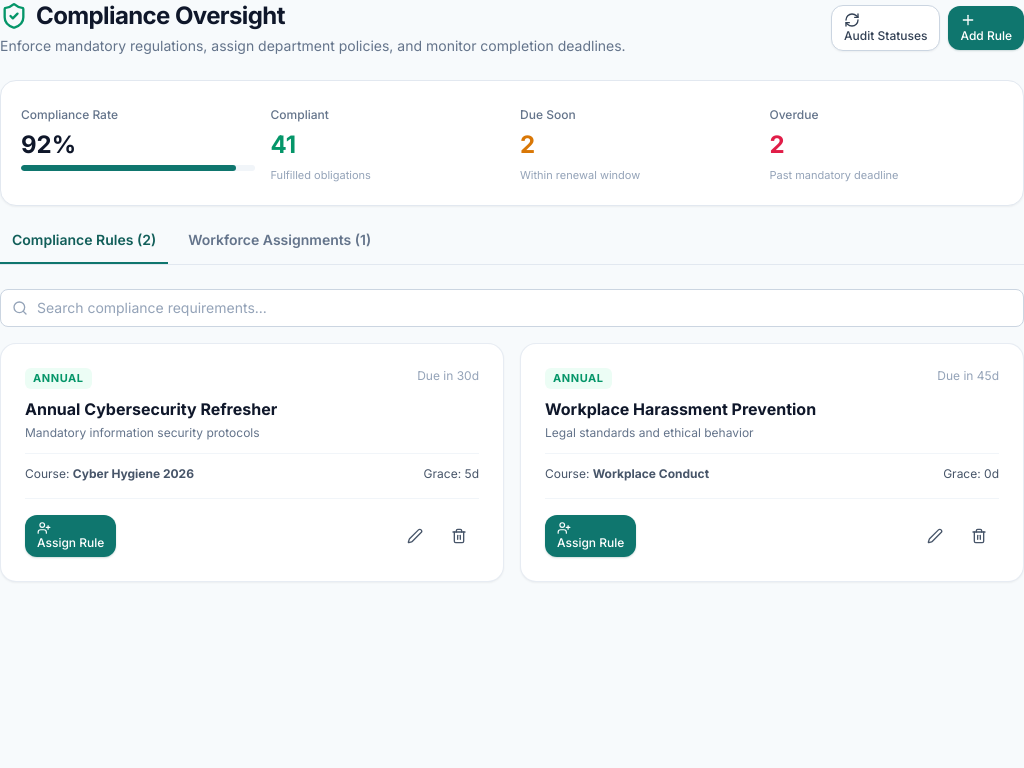
it: AdminCompliancePage › opens assign rule modal for a compliance requirement
Expected: the heading "Annual Cybersecurity Refresher" is shown, [25,398,277,418]
Click the button with aria-label "Assign Annual Cybersecurity Refresher" at (71, 536), box [25,514,116,556]
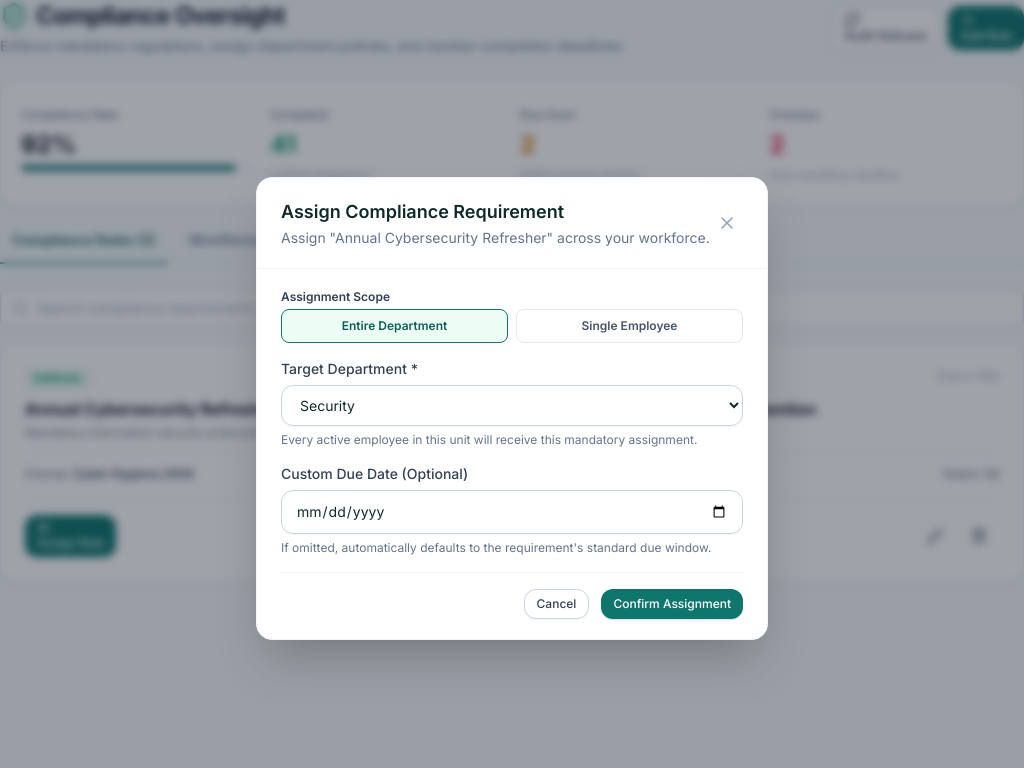
Expected: the heading "Assign Compliance Requirement" is shown, [281,200,564,222]
Expected: the button "Entire Department" is shown, [281,308,508,342]
